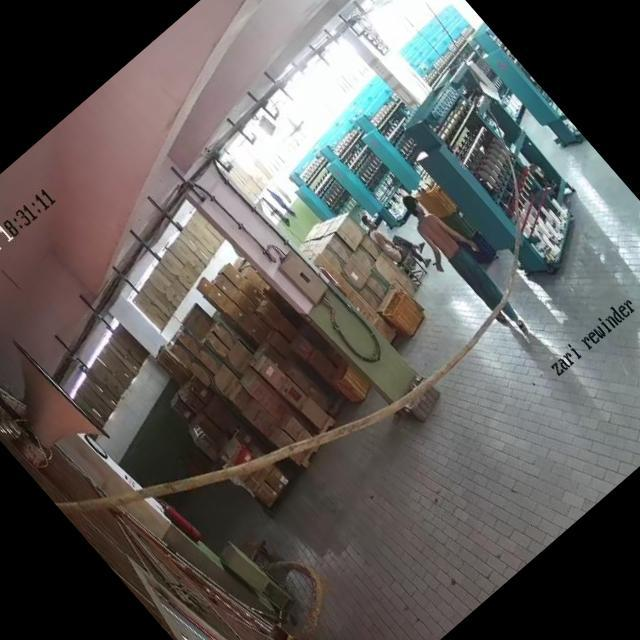person: (396, 188, 536, 343)
